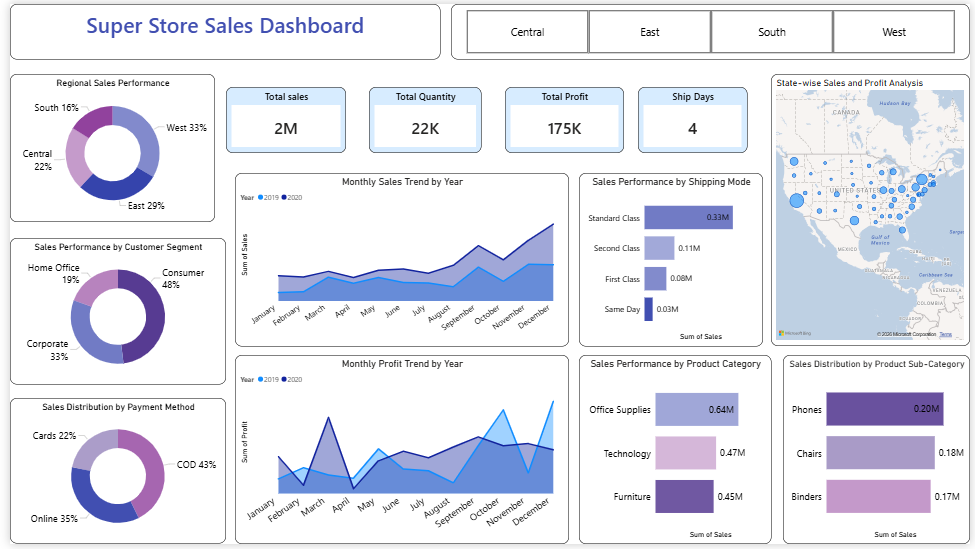

Layout of this report page (visuals, bound fields, positions):
{"tool":"powerbi","page":{"name":"Dashboard","canvas":[1920,1080],"ordinal":0},"visuals":[{"type":"clusteredBarChart","title":"Sales Performance by Product Category","fields":{"Category":["Sheet1.Category"],"Y":["Sum(Sheet1.Sales)"]},"box":[1137.4,701.6,384.8,378.4],"z":0},{"type":"clusteredBarChart","title":"Sales Distribution by Product Sub-Category","fields":{"Category":["Sheet1.Sub-Category"],"Y":["Sum(Sheet1.Sales)"]},"box":[1545.6,701.6,374.2,378.4],"z":1000},{"type":"clusteredBarChart","title":"Sales Performance by Shipping Mode","fields":{"Category":["Sheet1.Ship Mode"],"Y":["Sum(Sheet1.Sales)"]},"box":[1137.4,338,367.8,346.5],"z":2000},{"type":"areaChart","title":"Monthly Sales Trend by Year","fields":{"Y":["Sum(Sheet1.Sales)"],"Category":["Sheet1.Order Date.Variation.Date Hierarchy.Month"],"Series":["Sheet1.Order Date.Variation.Date Hierarchy.Year"]},"box":[450.7,338,667.6,346.5],"z":3000},{"type":"areaChart","title":"Monthly Profit Trend by Year","fields":{"Series":["Sheet1.Order Date.Variation.Date Hierarchy.Year"],"Y":["Sum(Sheet1.Profit)"],"Category":["Sheet1.Order Date.Variation.Date Hierarchy.Month","Sheet1.Order Date.Variation.Date Hierarchy.Day"]},"box":[450.7,701.6,667.6,378.4],"z":4000},{"type":"map","title":"State-wise Sales and Profit Analysis","fields":{"Category":["Sheet1.State"],"Size":["Sum(Sheet1.Sales)"]},"box":[1522.2,140.3,397.6,544.3],"z":5000},{"type":"donutChart","title":"Sales Performance by Customer Segment","fields":{"Category":["Sheet1.Segment"],"Y":["Sum(Sheet1.Sales)"]},"box":[0,467.7,431.6,293.4],"z":6000},{"type":"donutChart","title":"Sales Distribution by Payment Method","fields":{"Category":["Sheet1.Payment Mode"],"Y":["Sum(Sheet1.Sales)"]},"box":[0,788.7,431.6,291.3],"z":7000},{"type":"slicer","fields":{"Values":["Sheet1.Region"]},"box":[882.3,0,1037.5,110.6],"z":8000},{"type":"textbox","box":[0,0,861,110.6],"z":9000},{"type":"cardVisual","title":"Total sales","fields":{"Data":["Sum(Sheet1.Sales)"]},"box":[431.6,165.8,240.2,131.8],"z":10000},{"type":"cardVisual","title":"Total Quantity","fields":{"Data":["Sum(Sheet1.Quantity)"]},"box":[718.6,165.8,225.4,131.8],"z":11000},{"type":"cardVisual","title":"Total Profit","fields":{"Data":["Sum(Sheet1.Profit)"]},"box":[990.7,165.8,238.1,131.8],"z":12000},{"type":"cardVisual","title":"Ship Days","fields":{"Data":["Avg(Sheet1.AvgDelivery)"]},"box":[1256.5,165.8,219,131.8],"z":13000},{"type":"donutChart","title":"Regional Sales Performance","fields":{"Category":["Sheet1.Region"],"Y":["Sum(Sheet1.Sales)"]},"box":[0,140.3,410.3,295.5],"z":14000}]}

Visuals, with their boxes in screenshot pixels (x1, y1, x2, y2), scaled from the page's 1920x1080 canvas onto the 975x549 screenshot:
"Sales Performance by Product Category" clusteredBarChart: 578:357:773:548
"Sales Distribution by Product Sub-Category" clusteredBarChart: 785:357:974:548
"Sales Performance by Shipping Mode" clusteredBarChart: 578:172:764:348
"Monthly Sales Trend by Year" areaChart: 229:172:568:348
"Monthly Profit Trend by Year" areaChart: 229:357:568:548
"State-wise Sales and Profit Analysis" map: 773:71:974:348
"Sales Performance by Customer Segment" donutChart: 0:238:219:387
"Sales Distribution by Payment Method" donutChart: 0:401:219:548
slicer - Sheet1.Region: 448:0:974:56
textbox: 0:0:437:56
"Total sales" cardVisual: 219:84:341:151
"Total Quantity" cardVisual: 365:84:479:151
"Total Profit" cardVisual: 503:84:624:151
"Ship Days" cardVisual: 638:84:749:151
"Regional Sales Performance" donutChart: 0:71:208:222
